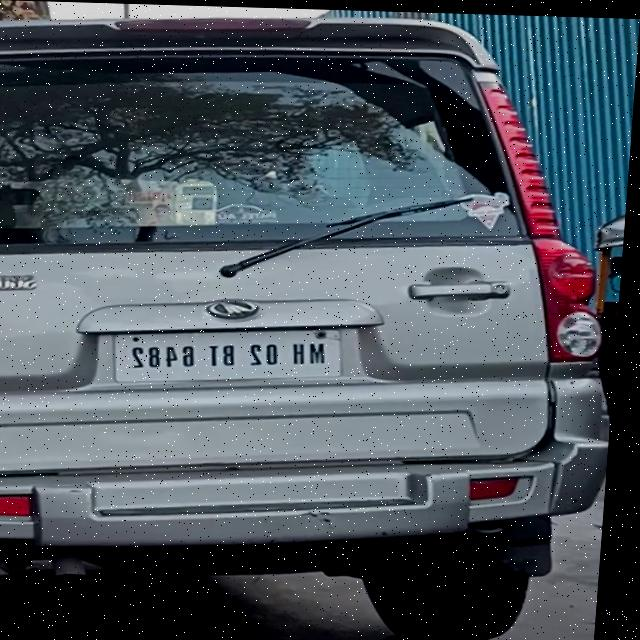plate: (110, 320, 355, 388)
